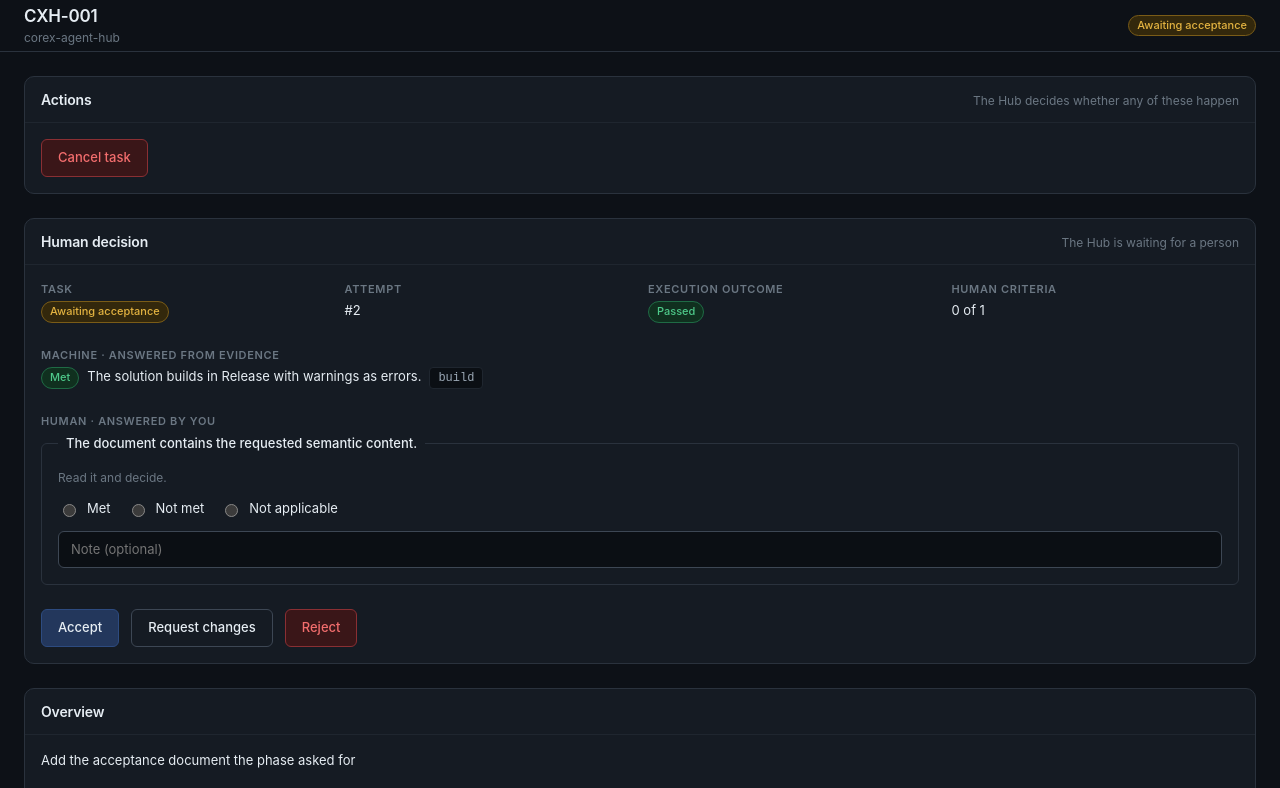
Scenario: Human governance › shows the refusal when a stale page accepts something the Hub will not
What coordinates should you click on to do the following:
click the radio button labelled "Met"
I would click on:
 (70, 510)
Its box is [63, 504, 76, 517].
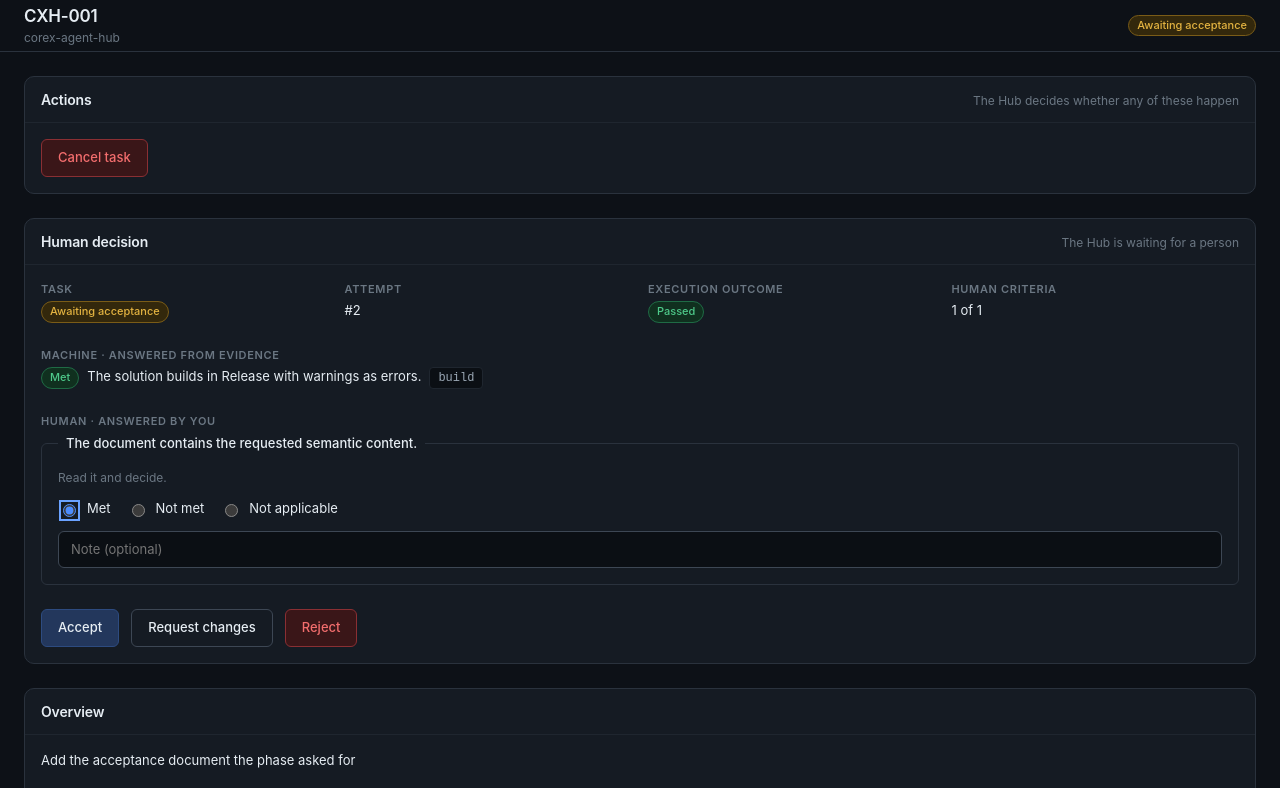
What coordinates should you click on to do the following:
click the button "Accept"
I would click on:
 (80, 628)
Its box is [41, 609, 119, 647].
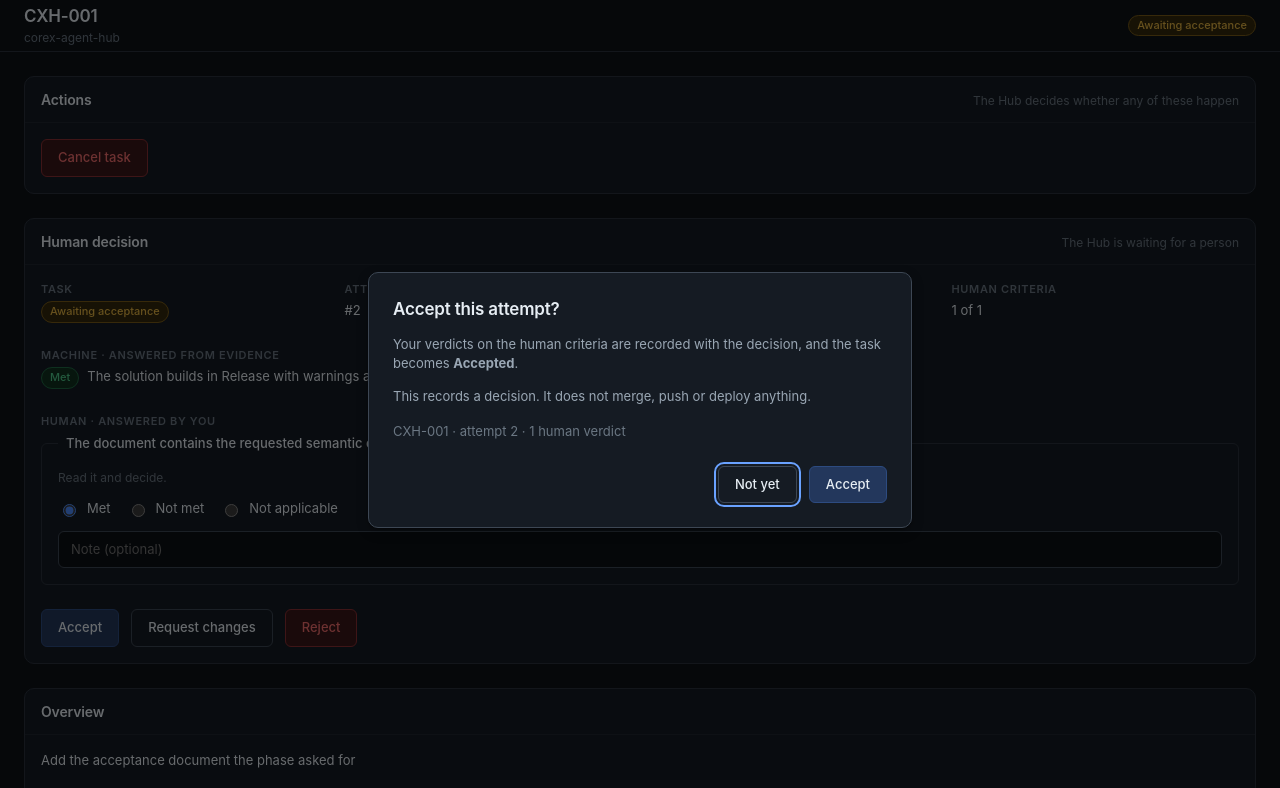
What coordinates should you click on to do the following:
click the button "Accept"
I would click on:
 (848, 484)
Its box is [809, 466, 887, 503].
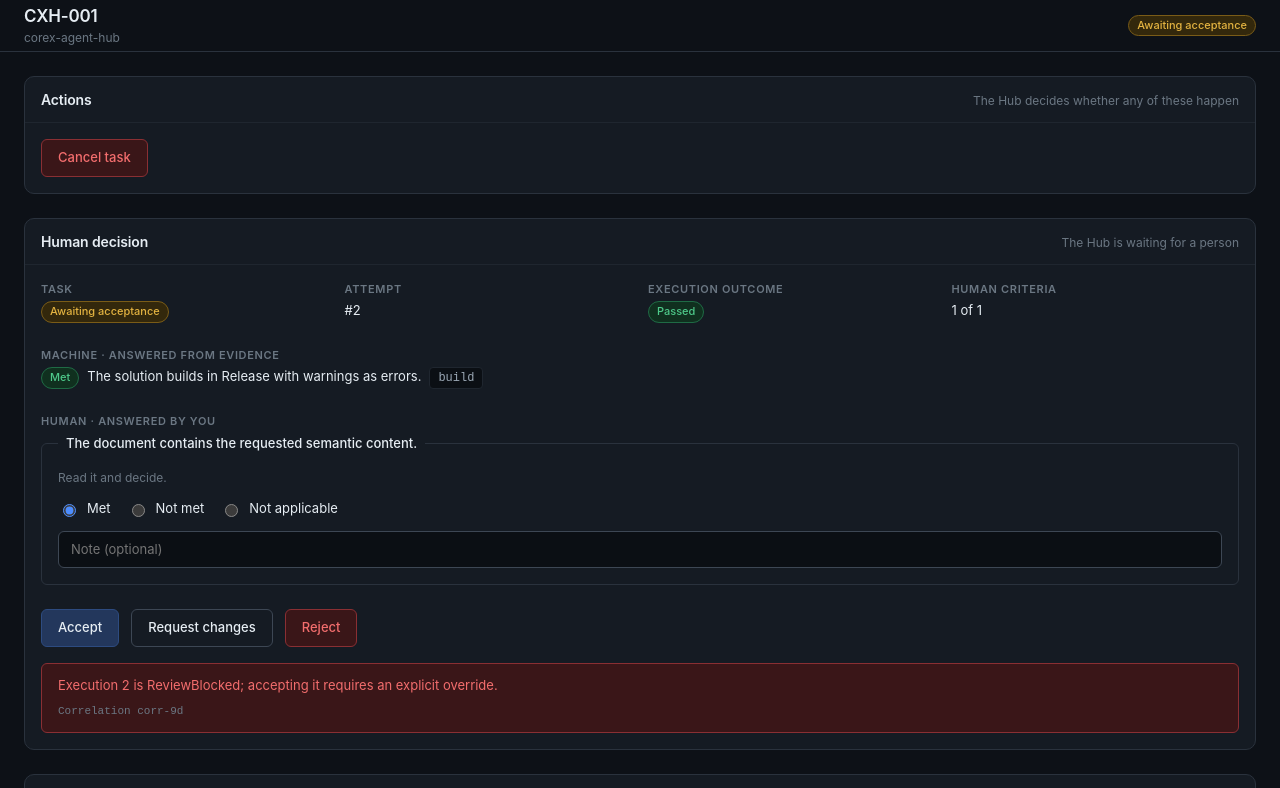
Result: the text "requires an explicit override" is shown at [58, 677, 498, 693]
Result: the text "Correlation corr-9d" is shown at [58, 705, 183, 717]
